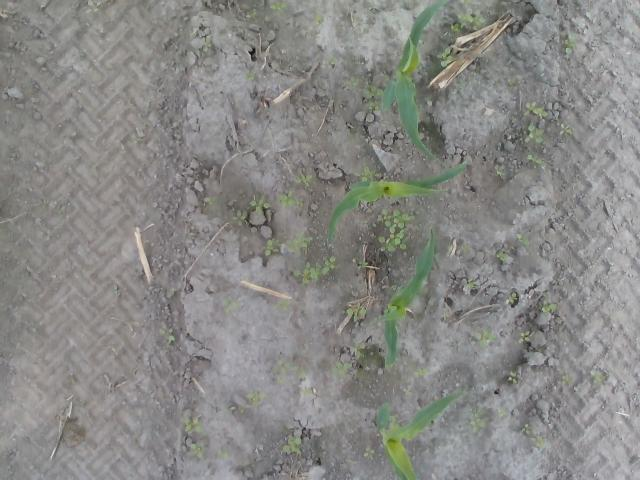Maize: (378, 0, 448, 156), (328, 162, 467, 236), (373, 389, 466, 480), (382, 228, 436, 370)
Weeds: (375, 209, 416, 259), (292, 256, 338, 284), (264, 231, 314, 256), (448, 10, 486, 36), (271, 359, 306, 384), (277, 191, 306, 208), (366, 85, 382, 115), (248, 196, 270, 214), (184, 416, 206, 433), (352, 166, 376, 181), (284, 436, 304, 454), (526, 99, 546, 117), (562, 32, 577, 56), (159, 325, 176, 346), (84, 0, 106, 16), (348, 342, 368, 359), (346, 303, 366, 320), (436, 48, 454, 66), (188, 444, 208, 460), (469, 416, 487, 433), (528, 124, 544, 143), (336, 361, 354, 377), (296, 174, 314, 188), (480, 328, 494, 346), (270, 0, 288, 14), (223, 299, 242, 312), (244, 6, 260, 20), (231, 210, 245, 226), (559, 122, 575, 136), (506, 368, 518, 384), (542, 299, 556, 312), (247, 392, 262, 404), (533, 434, 545, 448), (462, 278, 477, 289), (528, 154, 544, 164), (517, 331, 530, 343), (494, 167, 508, 178), (414, 367, 430, 376), (521, 424, 532, 436), (206, 196, 220, 205), (348, 76, 362, 85), (312, 14, 322, 26), (508, 292, 518, 304), (364, 448, 376, 458), (518, 238, 529, 248), (497, 250, 508, 260), (560, 374, 570, 384), (244, 70, 254, 80), (455, 80, 465, 88), (358, 260, 368, 268)
